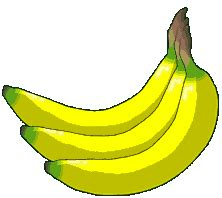banana: (42, 62, 219, 195), (19, 64, 191, 162), (1, 54, 176, 137)
